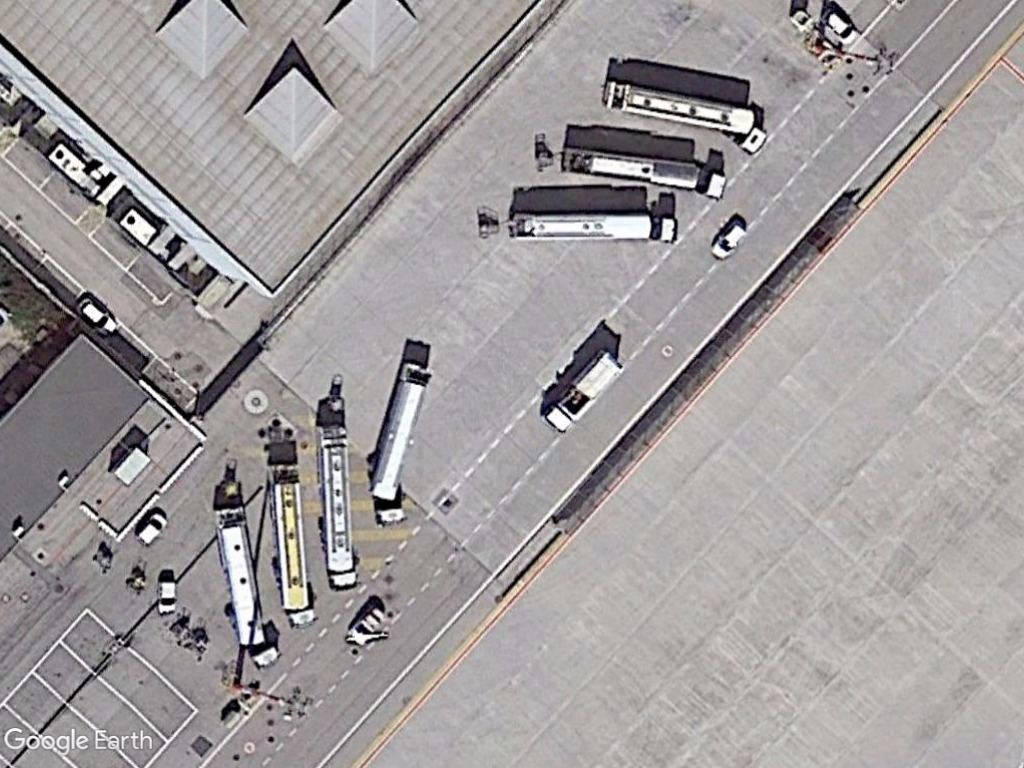car: (75, 293, 120, 339), (707, 221, 752, 260), (822, 6, 861, 45), (133, 507, 171, 545), (155, 575, 181, 618)
longvehicle: (363, 362, 440, 504), (599, 76, 763, 137), (266, 465, 320, 633), (210, 502, 270, 651), (312, 414, 361, 593), (556, 142, 704, 192), (506, 208, 680, 248)
other: (543, 352, 631, 437)
